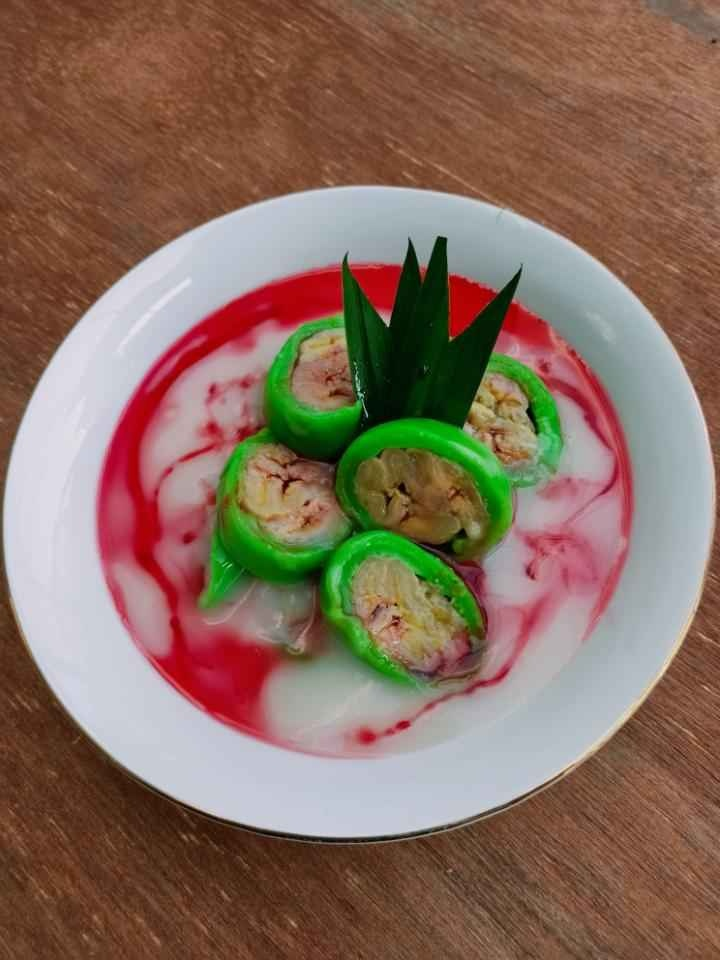pisang_ijo: (295, 540, 497, 695)
